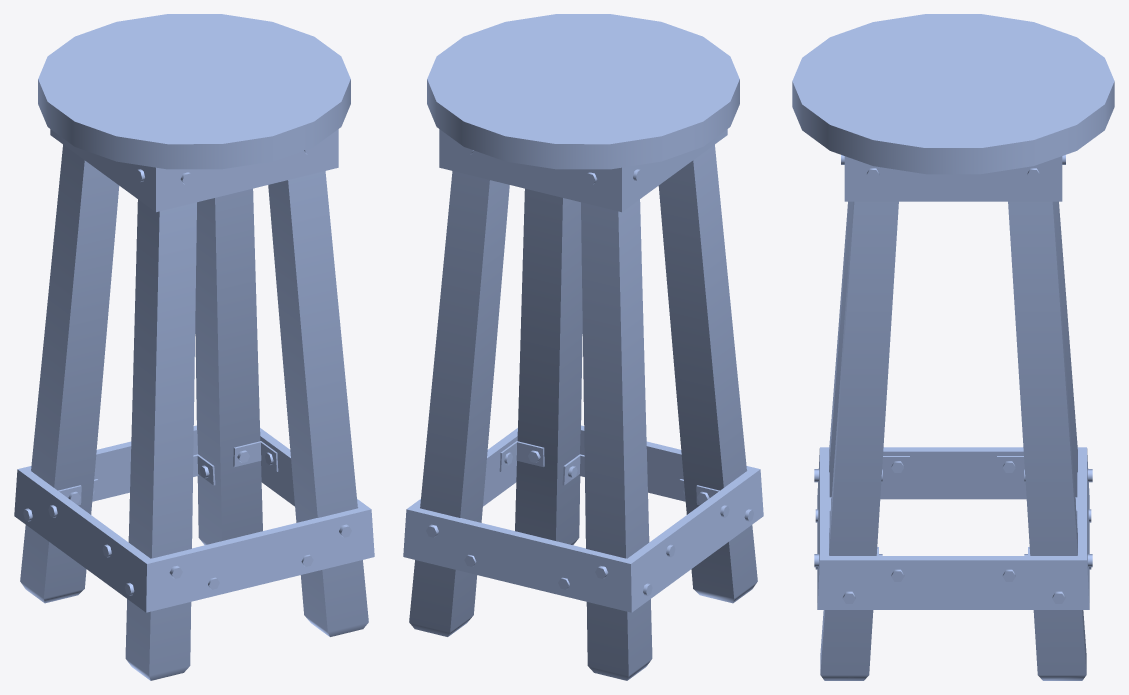
Rendered from chair1.fbx.
3 views of the same model, side by side, from view 1: azimuth 30°, elevation 25°; view 2: azimuth 150°, elevation 25°; view 3: azimuth 270°, elevation 25° (orthographic). The views are drawn at different scales.
Visible parts, largest first — view 1: BarStool01_REF; view 2: BarStool01_REF; view 3: BarStool01_REF.
Part boxes in pixels (<box>): BarStool01_REF: <box>14,14,374,680</box>; BarStool01_REF: <box>403,14,763,680</box>; BarStool01_REF: <box>792,14,1114,680</box>.
Bounding box in the file's own units: 67.41 × 128 × 68.43.
